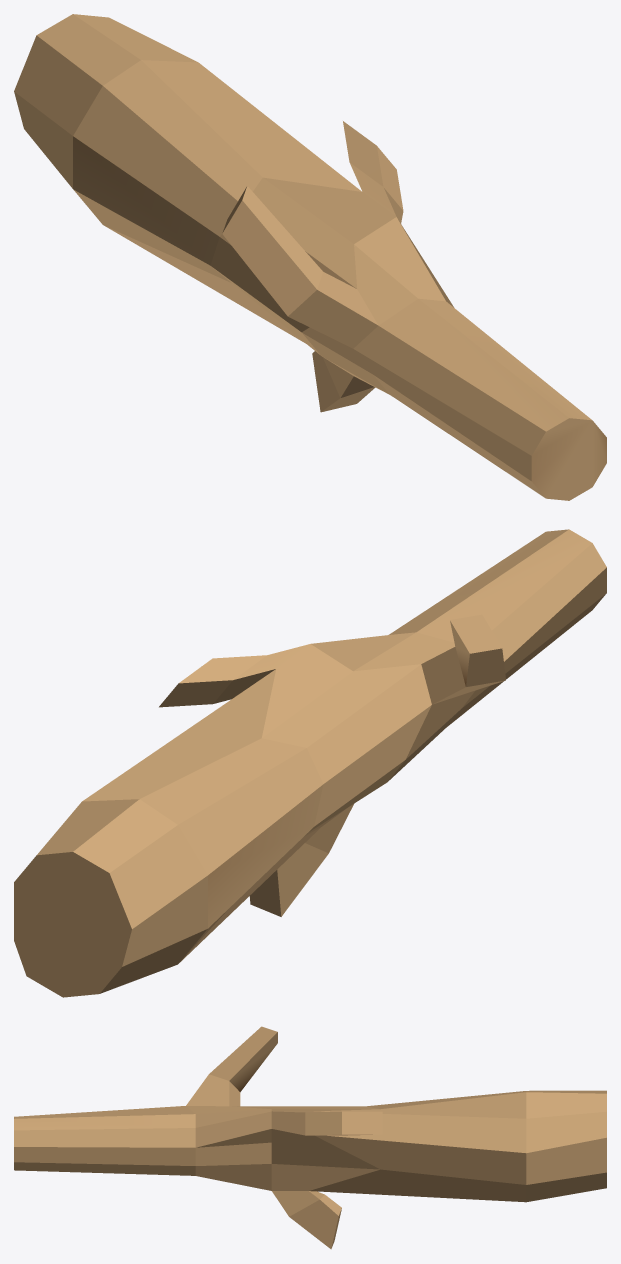
File: branchclub.fbx
3 views of the same model, one above another, from view 1: azimuth 30°, elevation 25°; view 2: azimuth 150°, elevation 25°; view 3: azimuth 270°, elevation 25° (orthographic). The views are drawn at different scales.
Visible parts, largest first — view 1: Cylinder; view 2: Cylinder; view 3: Cylinder.
Boxes of the visible parts, x1,y1,x2,y2 form: Cylinder: [14, 14, 606, 500]; Cylinder: [14, 529, 606, 997]; Cylinder: [14, 1026, 606, 1249].
Bounding box in the file's own units: 2.73 × 3.15 × 9.71.
